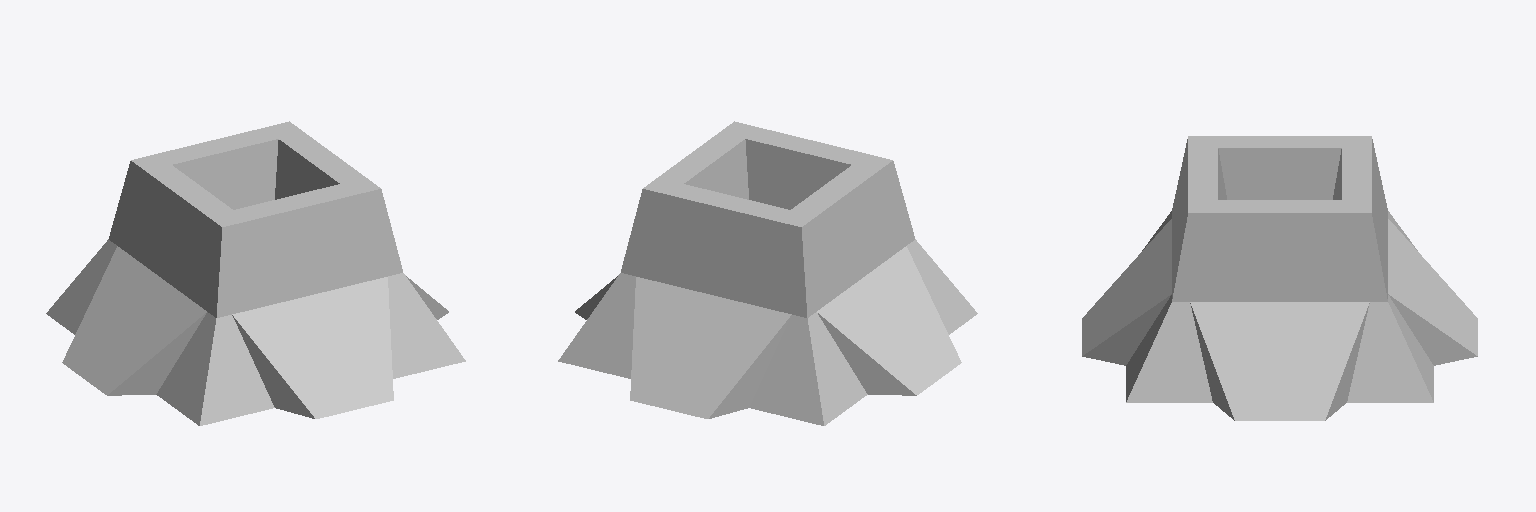
Rendered from stump_squareDetailed.obj.
The picture shows the model from 3 angles: view 1: azimuth 30°, elevation 25°; view 2: azimuth 150°, elevation 25°; view 3: azimuth 270°, elevation 25°; orthographic projection.
Visible parts, largest first — view 1: stump_squareDetailed; view 2: stump_squareDetailed; view 3: stump_squareDetailed.
Part boxes in pixels (left/top/right/bottom): stump_squareDetailed: left=46, top=121, right=465, bottom=425; stump_squareDetailed: left=558, top=121, right=977, bottom=425; stump_squareDetailed: left=1082, top=136, right=1477, bottom=420.
Bounding box in the file's own units: 0.44 × 0.2 × 0.44.